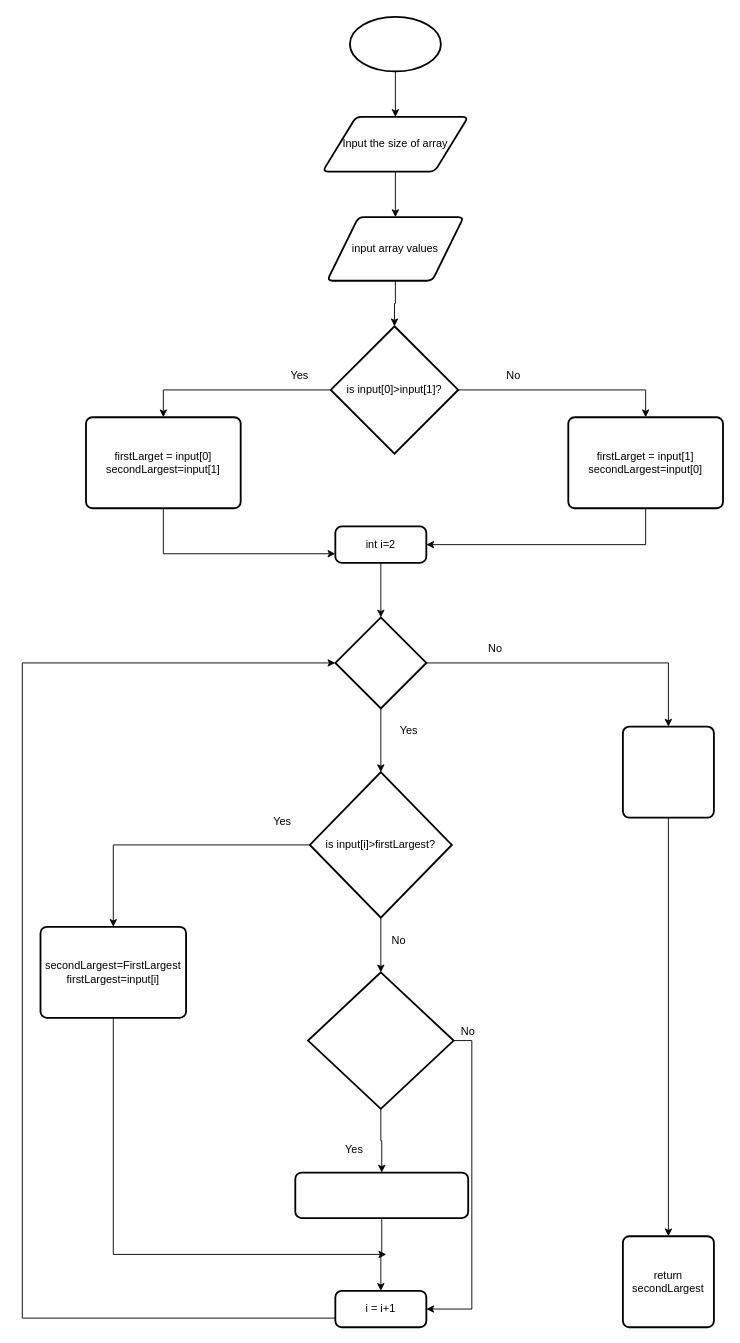
This 740x1343 diagram has some shape labels left out. The centre of each missing label's shape, as x and y in pixels:
Break the loop: (x=668, y=771)
is i<input.length ?: (x=380, y=662)
is input[i]<firstLargest && input[i]>secondLargest: (x=380, y=1040)
secondLargest = input[i]: (x=381, y=1194)
start: (x=395, y=43)
